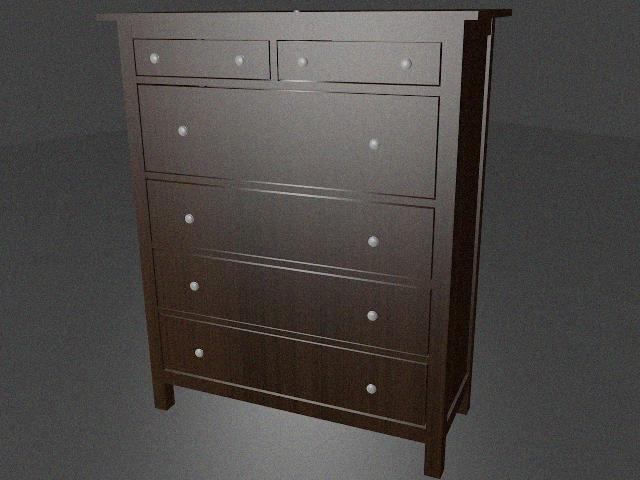cabinet_door: (142, 90, 438, 184), (149, 194, 433, 262), (156, 270, 430, 332), (162, 339, 427, 398), (278, 42, 440, 84), (135, 39, 270, 78)
handle: (394, 54, 419, 75), (364, 134, 386, 156), (291, 54, 314, 74), (364, 234, 386, 254), (174, 122, 194, 141), (180, 211, 199, 230), (230, 53, 250, 71), (146, 51, 165, 68), (365, 307, 382, 326), (186, 279, 205, 296), (191, 344, 208, 363), (362, 382, 381, 399)
